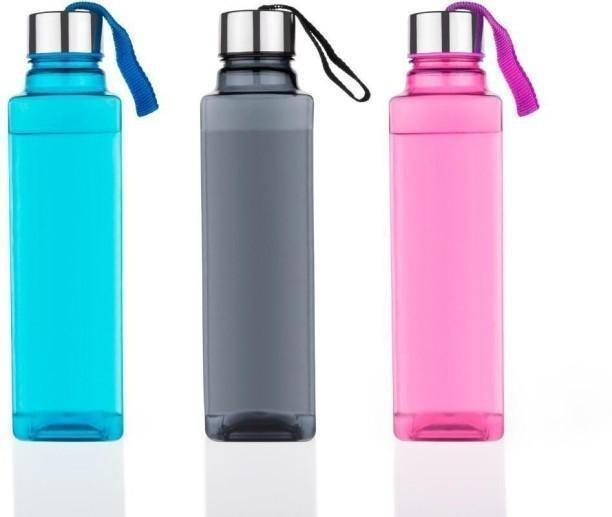gym bottle: (1, 6, 130, 447), (382, 8, 511, 444), (194, 8, 318, 444)
